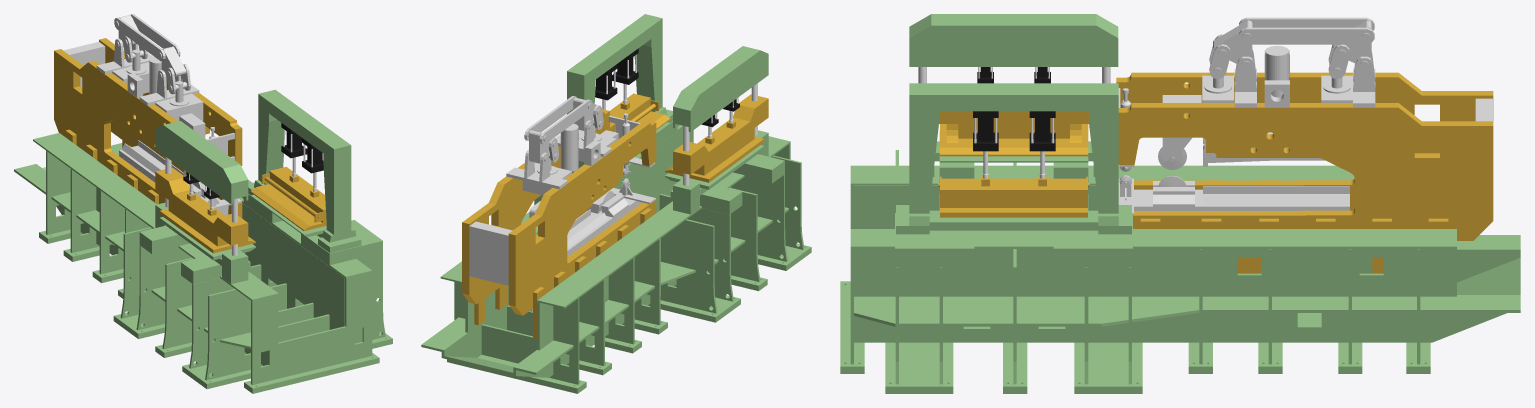
The model's file is Soldier3.glb.
3 views of the same model, side by side, from view 1: azimuth 30°, elevation 25°; view 2: azimuth 150°, elevation 25°; view 3: azimuth 270°, elevation 25° (orthographic). The views are drawn at different scales.
Visible parts, largest first — view 1: 立方体.006, 立方体.002, 立方体, 立方体.009, 立方体.008, 立方体.010, 立方体.038, 立方体.036, 立方体.034, 立方体.003, 立方体.001, 柱体.013 (+13 smaller); view 2: 立方体.006, 立方体.002, 立方体, 立方体.009, 立方体.008, 立方体.010, 立方体.038, 立方体.007, 立方体.003, 立方体.001, 立方体.012, 柱体.013 (+11 smaller); view 3: 立方体, 立方体.002, 立方体.006, 立方体.009, 立方体.008, 立方体.038, 立方体.036, 立方体.034, 立方体.010, 立方体.020, 立方体.016, 柱体.013 (+15 smaller).
Boxes of the visible parts, left/top/right/bottom form: 立方体.006: left=39, top=151, right=392, bottom=393; 立方体.002: left=54, top=38, right=242, bottom=218; 立方体: left=14, top=143, right=344, bottom=365; 立方体.009: left=248, top=89, right=361, bottom=253; 立方体.008: left=33, top=133, right=372, bottom=301; 立方体.010: left=155, top=167, right=255, bottom=253; 立方体.038: left=155, top=121, right=248, bottom=204; 立方体.036: left=250, top=157, right=326, bottom=231; 立方体.034: left=243, top=194, right=382, bottom=264; 立方体.003: left=139, top=225, right=221, bottom=284; 立方体.001: left=155, top=202, right=255, bottom=284; 柱体.013: left=96, top=38, right=199, bottom=105; 立方体.006: left=447, top=130, right=811, bottom=393; 立方体.002: left=462, top=109, right=656, bottom=315; 立方体: left=421, top=128, right=788, bottom=377; 立方体.009: left=567, top=14, right=672, bottom=168; 立方体.008: left=440, top=125, right=790, bottom=308; 立方体.010: left=665, top=94, right=768, bottom=182; 立方体.038: left=673, top=46, right=768, bottom=131; 立方体.007: left=469, top=221, right=512, bottom=285; 立方体.003: left=700, top=154, right=784, bottom=214; 立方体.001: left=665, top=130, right=768, bottom=214; 立方体.012: left=474, top=208, right=651, bottom=339; 柱体.013: left=506, top=120, right=611, bottom=189; 立方体: left=854, top=185, right=1520, bottom=342; 立方体.002: left=1116, top=72, right=1493, bottom=273; 立方体.006: left=840, top=150, right=1430, bottom=393; 立方体.009: left=896, top=83, right=1131, bottom=234; 立方体.008: left=850, top=165, right=1456, bottom=248; 立方体.038: left=909, top=14, right=1118, bottom=66; 立方体.036: left=938, top=151, right=1089, bottom=217; 立方体.034: left=895, top=213, right=1132, bottom=266; 立方体.010: left=939, top=111, right=1088, bottom=156; 立方体.020: left=1239, top=17, right=1374, bottom=44; 立方体.016: left=1203, top=186, right=1349, bottom=204; 柱体.013: left=1234, top=49, right=1375, bottom=107.
Bounding box in the file's own units: 14.68 × 16.81 × 33.67.
